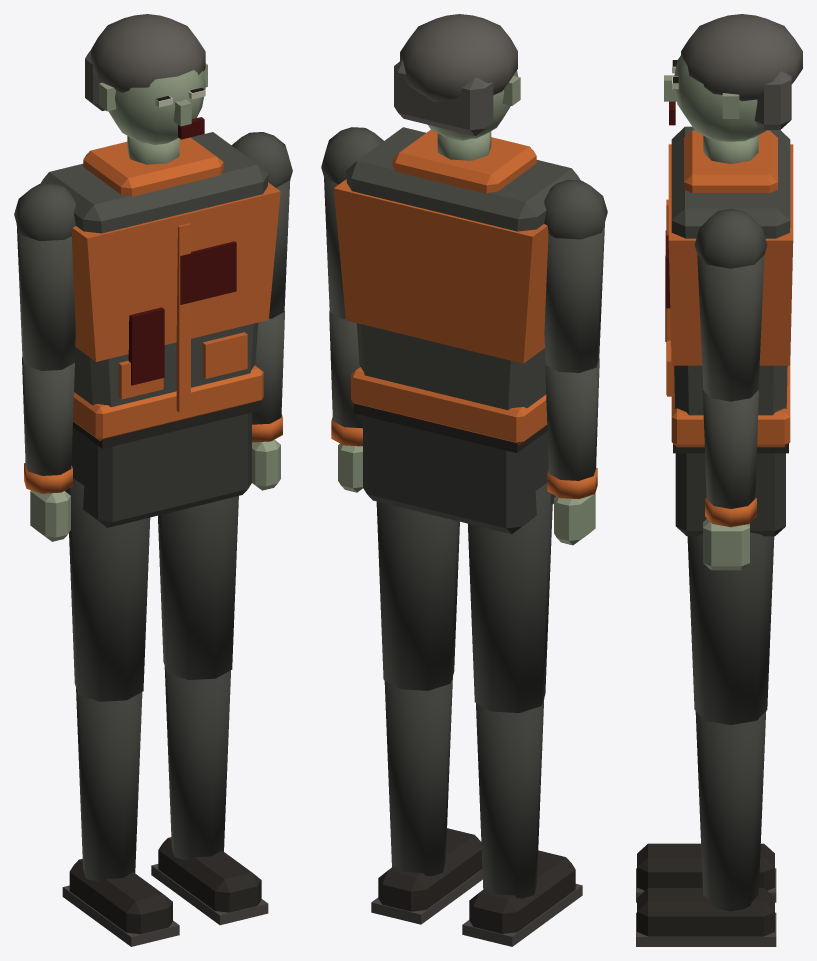
Rendered from zombie_d.glb.
3 renders of one model, left to right at view 1: azimuth 30°, elevation 25°; view 2: azimuth 150°, elevation 25°; view 3: azimuth 270°, elevation 25°, orthographic. The views are drawn at different scales.
Visible parts, largest first — view 1: Torso, ShinR, ShinL, Hips, LegR, Head, LegL, ArmR, ForearmR, ForearmL, ArmL; view 2: Torso, ShinR, Hips, ShinL, LegR, Head, LegL, ArmR, ForearmR, ForearmL, ArmL; view 3: Torso, ShinL, Head, LegL, ArmL, ForearmL, Hips, ShinR.
Part boxes in pixels (bbox=[...]): Torso: bbox=[40, 132, 280, 441]; ShinR: bbox=[62, 688, 179, 946]; ShinL: bbox=[151, 666, 268, 925]; Hips: bbox=[65, 400, 261, 527]; LegR: bbox=[69, 478, 150, 701]; Head: bbox=[85, 14, 207, 164]; LegL: bbox=[158, 496, 238, 679]; ArmR: bbox=[14, 183, 75, 370]; ForearmR: bbox=[22, 357, 74, 541]; ForearmL: bbox=[252, 311, 284, 490]; ArmL: bbox=[231, 132, 292, 318]; Torso: bbox=[333, 127, 580, 444]; ShinR: bbox=[462, 698, 582, 946]; Hips: bbox=[353, 403, 555, 534]; ShinL: bbox=[371, 676, 482, 924]; LegR: bbox=[468, 483, 552, 712]; Head: bbox=[394, 14, 520, 160]; LegL: bbox=[376, 501, 459, 690]; ArmR: bbox=[544, 180, 607, 372]; ForearmR: bbox=[545, 358, 599, 545]; ForearmL: bbox=[329, 311, 362, 492]; ArmL: bbox=[321, 127, 383, 319]; Torso: bbox=[665, 126, 793, 447]; ShinL: bbox=[636, 711, 776, 946]; Head: bbox=[664, 14, 802, 163]; LegL: bbox=[687, 532, 774, 724]; ArmL: bbox=[694, 208, 767, 401]; ForearmL: bbox=[702, 390, 758, 570]; Hips: bbox=[673, 443, 788, 536]; ShinR: bbox=[636, 843, 776, 902].
Size of the model in its own units: 0.582 by 1.78 by 0.3026.
